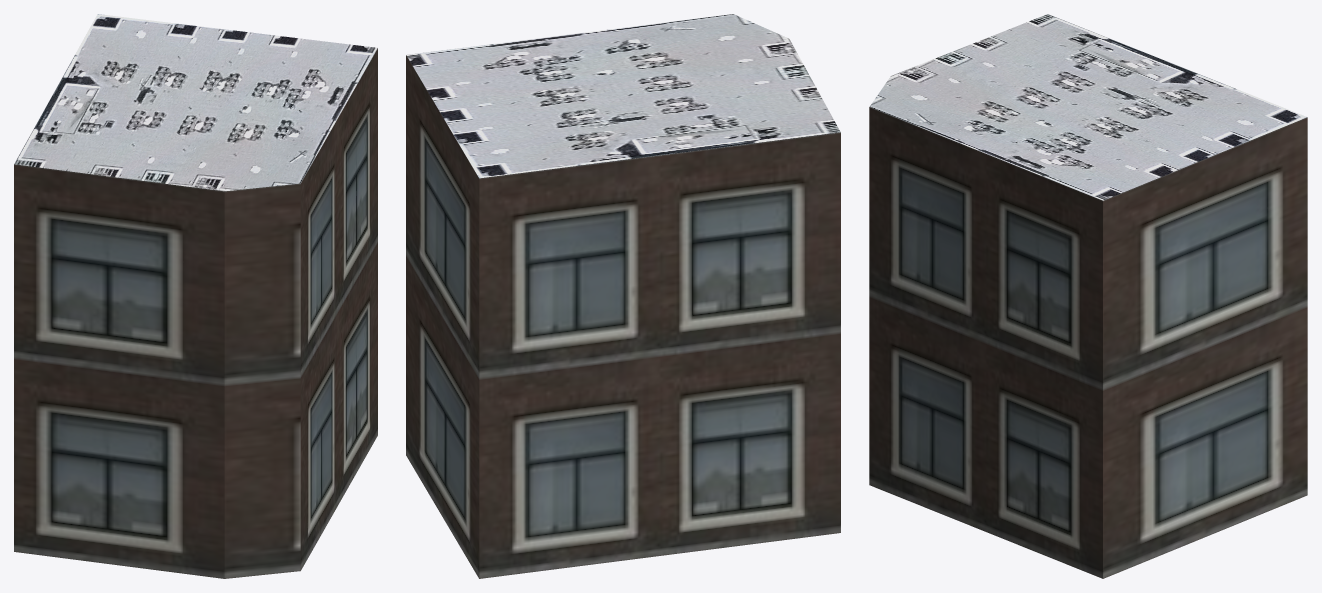
Rendered from ResTex__2786.fbx.
The picture shows the model from 3 angles, left to right: view 1: azimuth 30°, elevation 25°; view 2: azimuth 150°, elevation 25°; view 3: azimuth 270°, elevation 25°; orthographic projection. The views are drawn at different scales.
Parts seen in each view (by area): view 1: CityEngineMaterial_16_m, CityEngineMaterial_15_m; view 2: CityEngineMaterial_16_m, CityEngineMaterial_15_m; view 3: CityEngineMaterial_16_m, CityEngineMaterial_15_m.
Part boxes in pixels (<box>): CityEngineMaterial_16_m: <box>14,48,377,578</box>; CityEngineMaterial_15_m: <box>14,14,377,191</box>; CityEngineMaterial_16_m: <box>406,55,840,578</box>; CityEngineMaterial_15_m: <box>406,14,840,178</box>; CityEngineMaterial_16_m: <box>869,107,1307,578</box>; CityEngineMaterial_15_m: <box>869,14,1306,200</box>.
Bounding box in the file's own units: 6.36 × 6 × 6.3.
2 materials, 2 textured.
